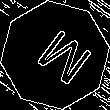M_SW: (21, 21, 89, 89)
